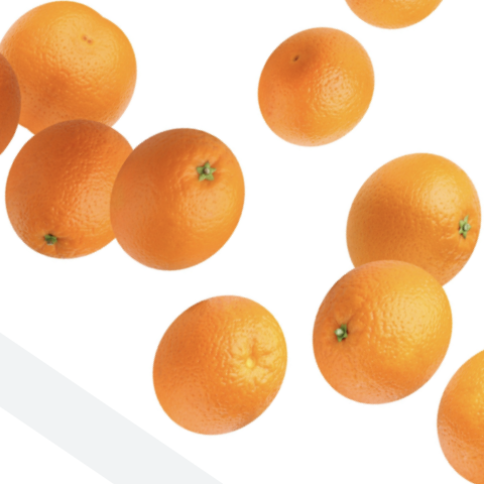orange: (103, 252, 320, 472), (275, 222, 484, 443), (75, 91, 280, 302), (0, 81, 179, 307), (313, 118, 484, 331), (231, 0, 407, 175), (25, 8, 179, 179)
